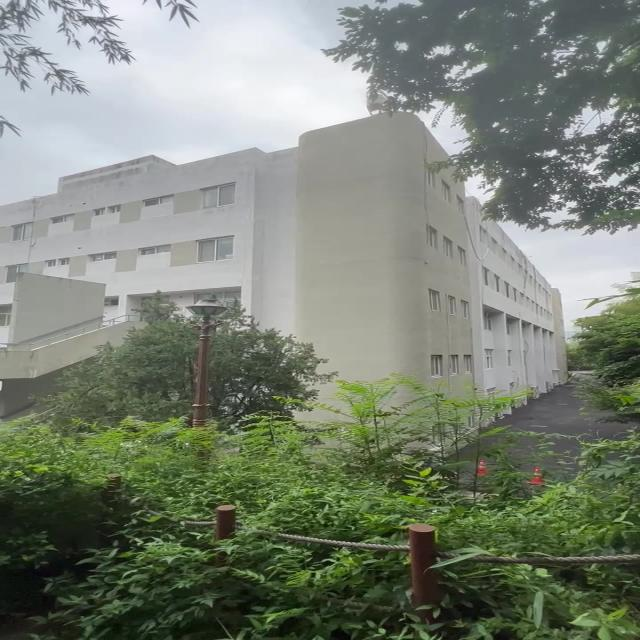building: (284, 195, 556, 375)
